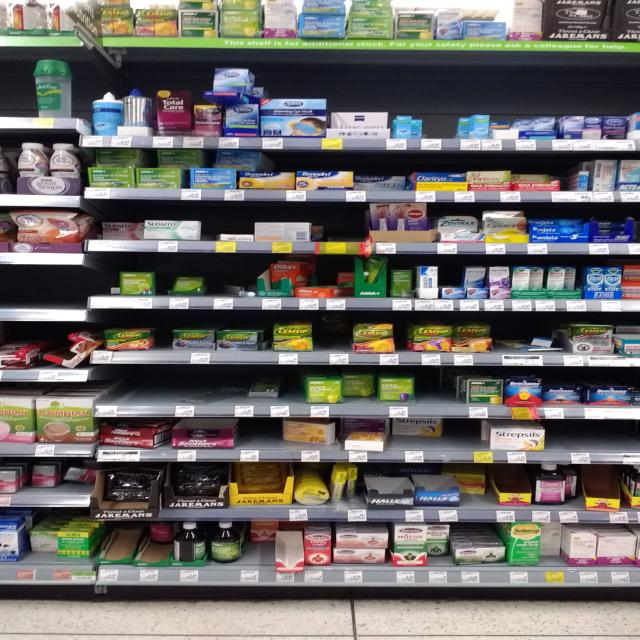void: (38, 265, 83, 323), (1, 49, 31, 128), (312, 312, 351, 364), (0, 264, 35, 320), (110, 369, 149, 417), (153, 367, 187, 416), (89, 252, 118, 308), (240, 419, 278, 461), (190, 367, 220, 417), (610, 421, 640, 464), (223, 366, 247, 419), (446, 420, 476, 462), (548, 315, 572, 367), (210, 262, 236, 309), (428, 371, 455, 416), (492, 321, 520, 364), (242, 258, 267, 306), (342, 205, 365, 255), (522, 319, 546, 366), (550, 422, 578, 462), (581, 421, 607, 464), (316, 206, 339, 252), (425, 113, 453, 150)
